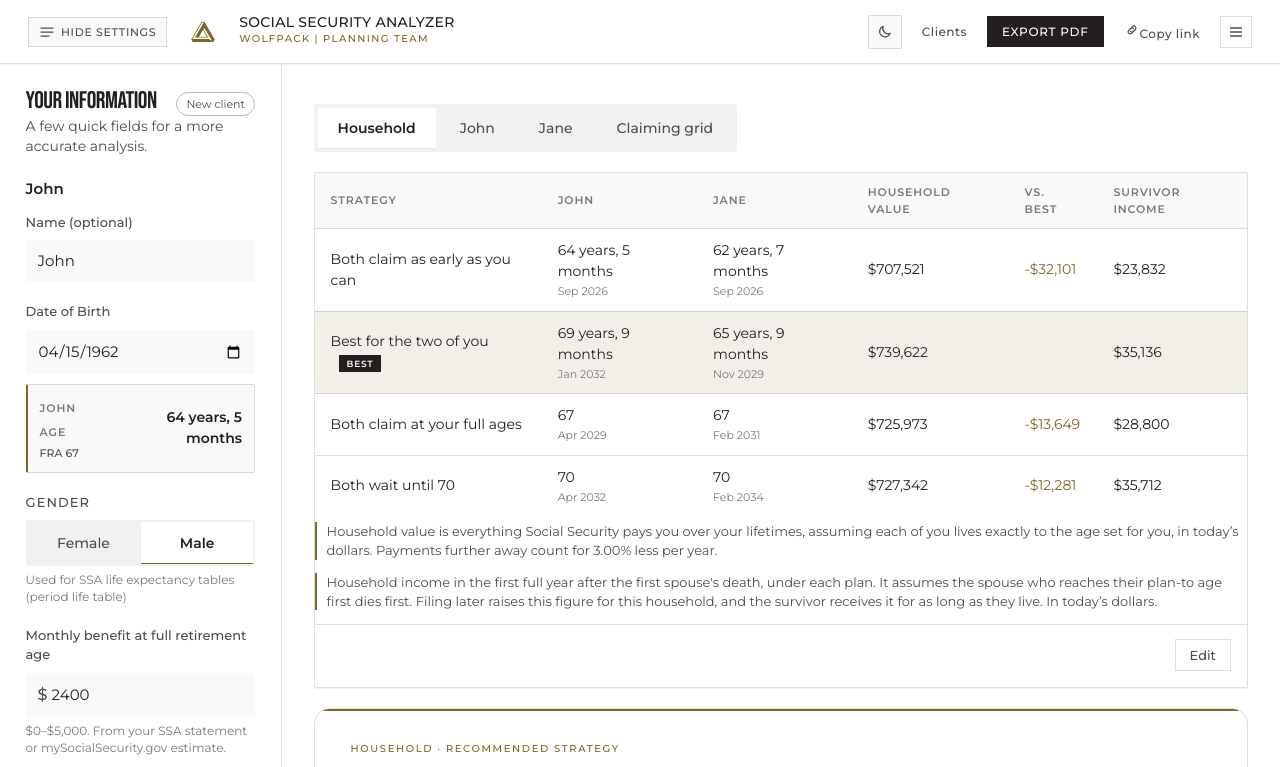
Test: starting a new client › leaves nothing of one household behind in the next
Expected: the table with test id "strategy-table" is shown, [315,173,1247,516]
Click the button "New client": [216, 104] box [176,92,255,116]
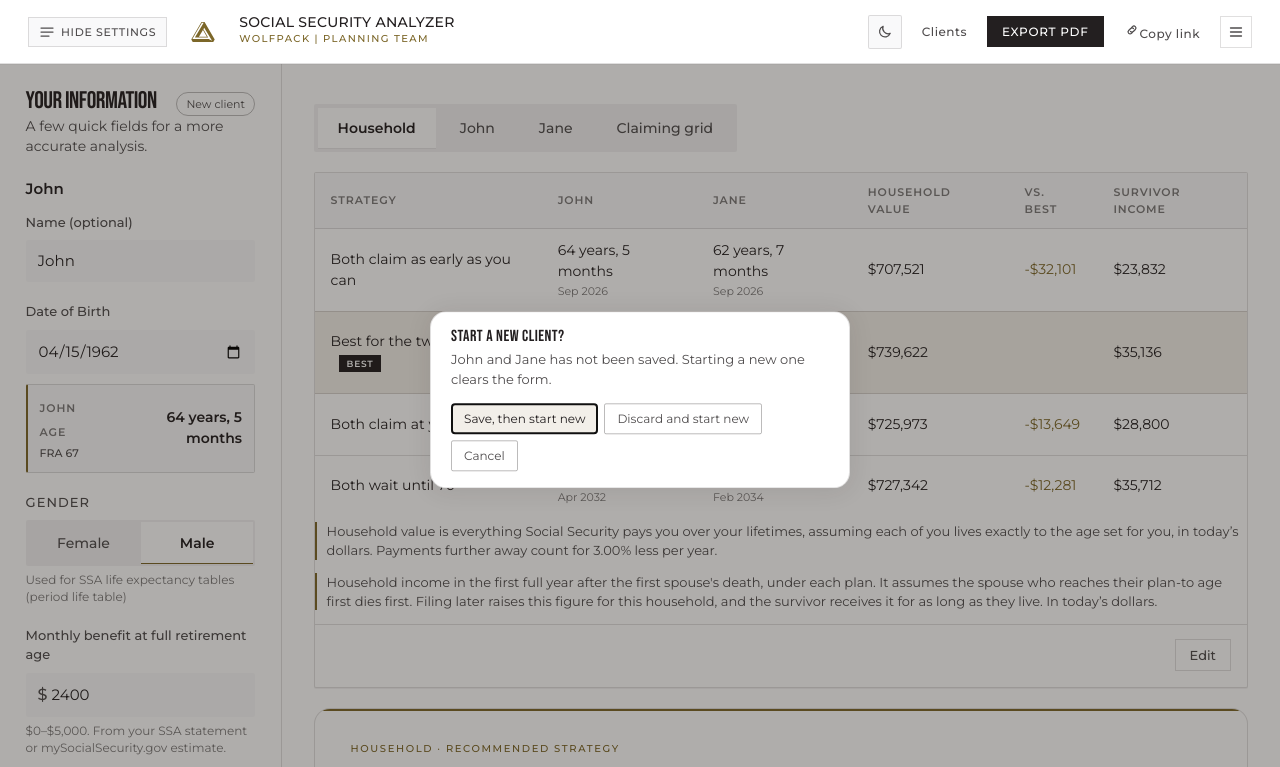
// The form has unsaved work, so it asks first.
Click the button "Discard and start new": [683, 419] box [604,404,762,435]
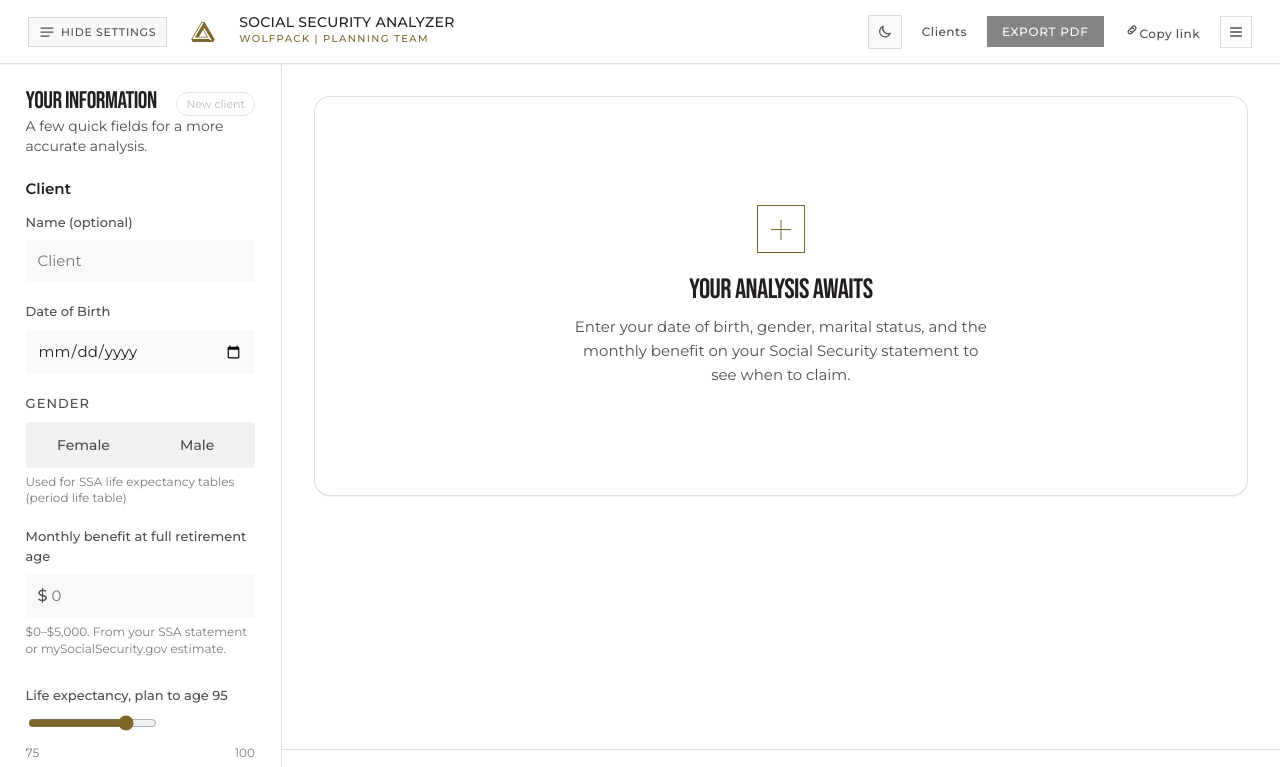
Expected: the date field named "Client date of birth" is empty, [26,330,255,374]
Expected: the button "New client" is disabled, [176,92,255,116]
In the field labelled "Name (optional)": [140, 261] box [26,240,255,282], type "Next"
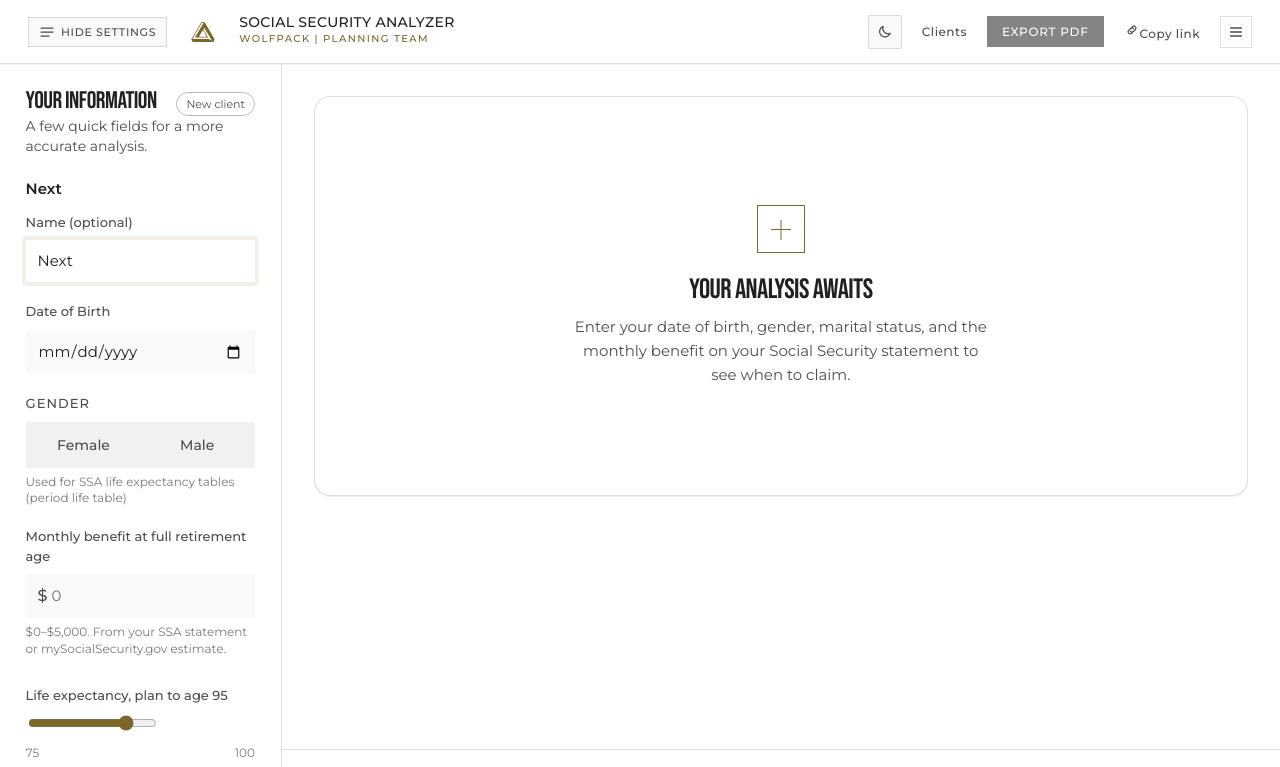
Expected: the text "Next" is shown, [26,178,62,201]
